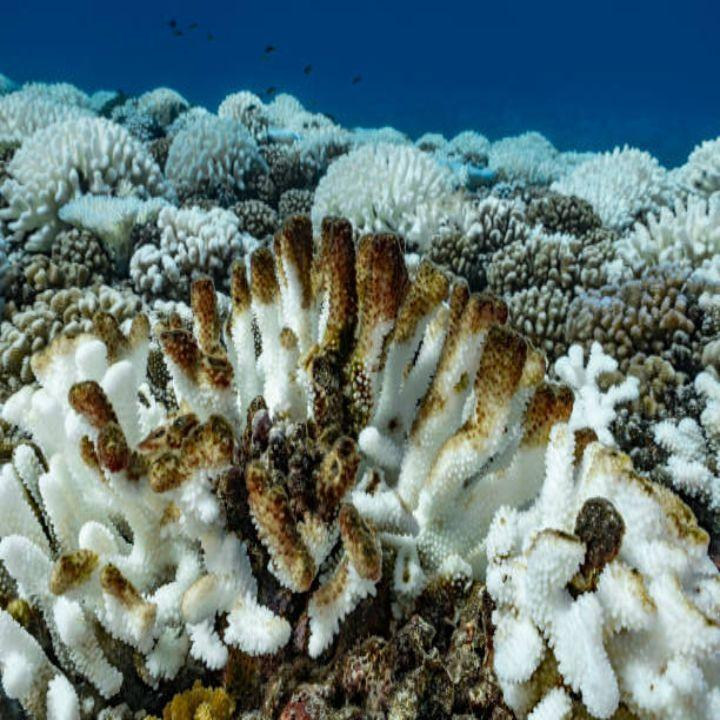Bleached disease: (0, 83, 720, 305)
